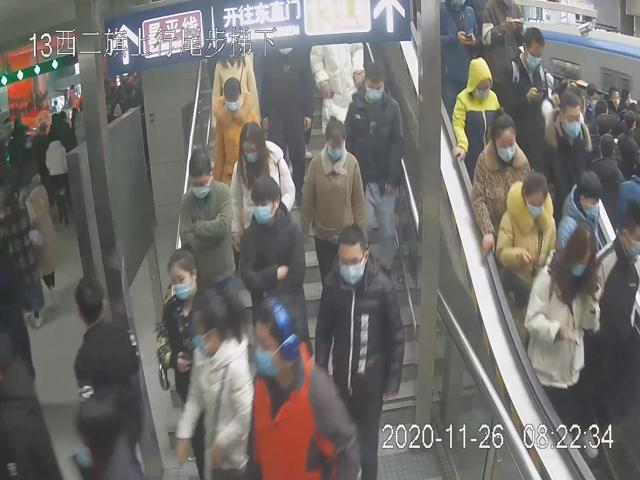person: (313, 223, 405, 478), (522, 223, 601, 402), (239, 174, 311, 367), (342, 61, 401, 266), (304, 117, 370, 291), (469, 108, 534, 259), (228, 122, 297, 259), (178, 151, 238, 307), (492, 170, 558, 304), (496, 27, 556, 136), (450, 53, 502, 176), (540, 84, 594, 193), (211, 76, 261, 184)
